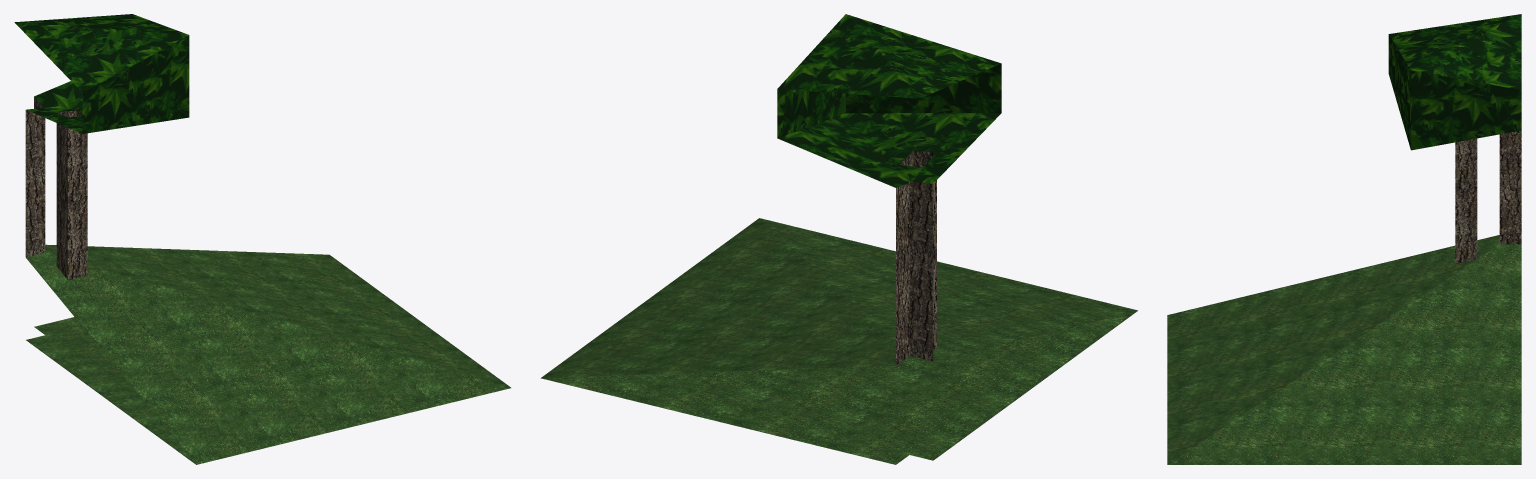
File: woodsTrimCorner.gltf
The picture shows the model from 3 angles, left to right: view 1: azimuth 30°, elevation 25°; view 2: azimuth 150°, elevation 25°; view 3: azimuth 270°, elevation 25°; orthographic projection. The views are drawn at different scales.
Visible parts, largest first — view 1: woodsTrimCorner; view 2: woodsTrimCorner; view 3: woodsTrimCorner.
Part boxes in pixels (x1,y1,x2,y2): woodsTrimCorner: (14,14,510,464); woodsTrimCorner: (541,14,1137,464); woodsTrimCorner: (1167,14,1521,464).
Size of the model in its own units: 32 by 30 by 32.
3 materials, 3 textured.
